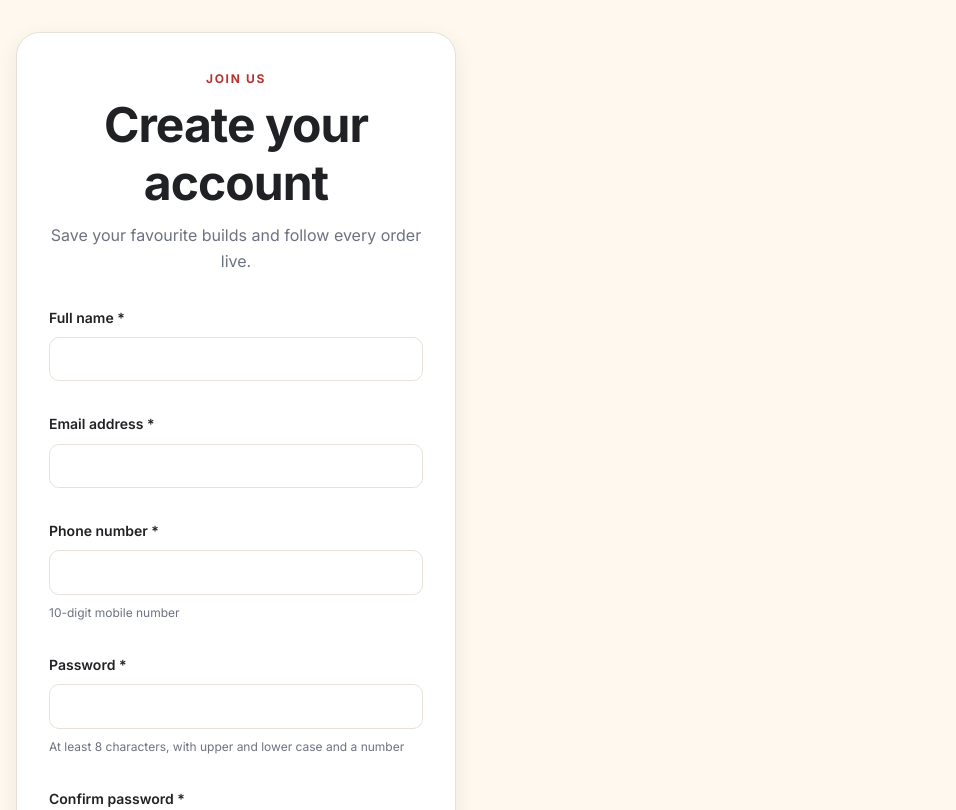
Test: Register form › warns instead of claiming success when email delivery fails
In the field labelled "Full name *": (236, 359) x1=49 y1=337 x2=423 y2=381, type "Asha Rao"
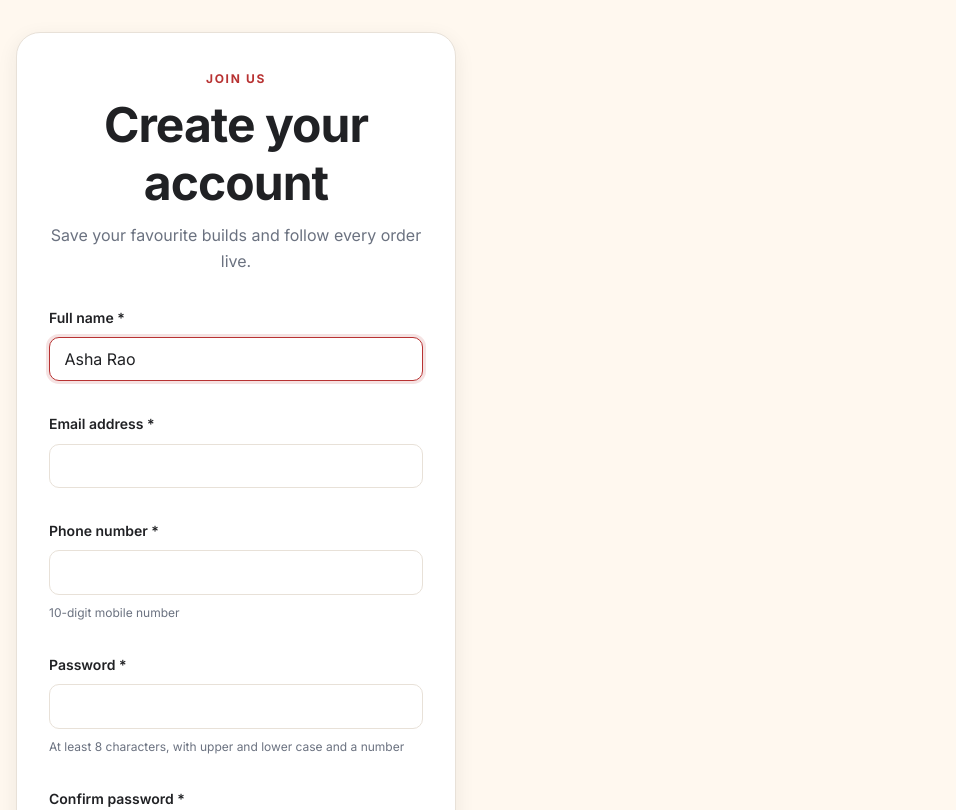
In the field labelled "Email address *": (236, 466) x1=49 y1=444 x2=423 y2=488, type "asha@example.com"
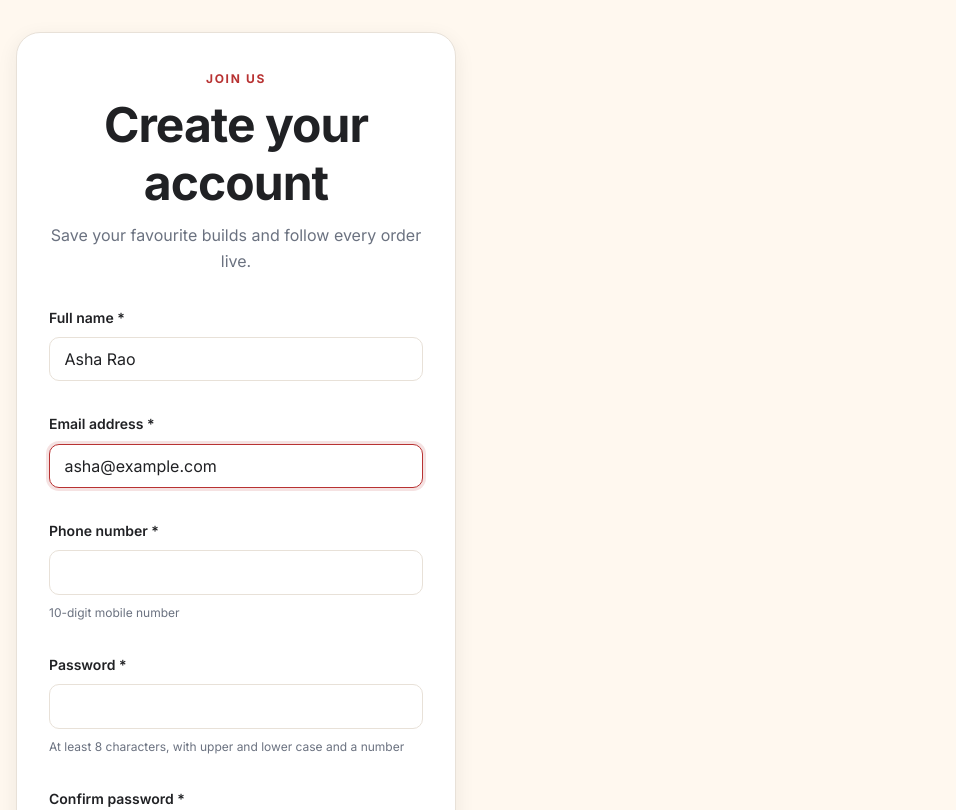
In the field labelled "Phone number *": (236, 573) x1=49 y1=550 x2=423 y2=595, type "9876543210"
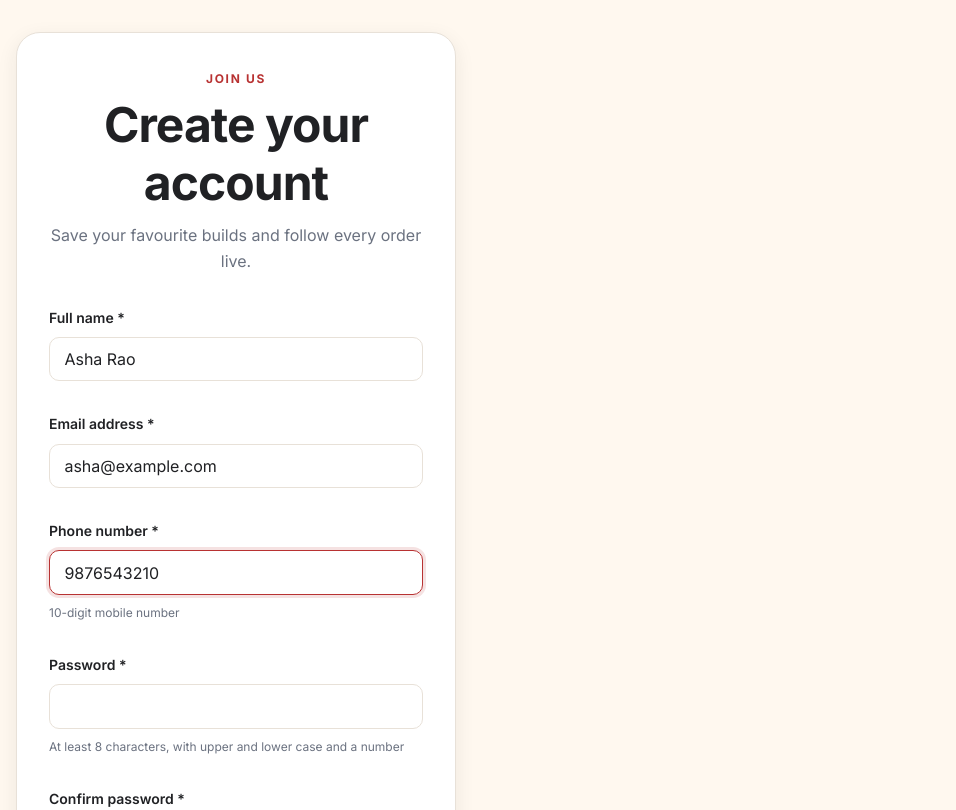
In the password field labelled "Password *": (236, 707) x1=49 y1=684 x2=423 y2=729, type "Str0ngPass1"
(page scrolled)
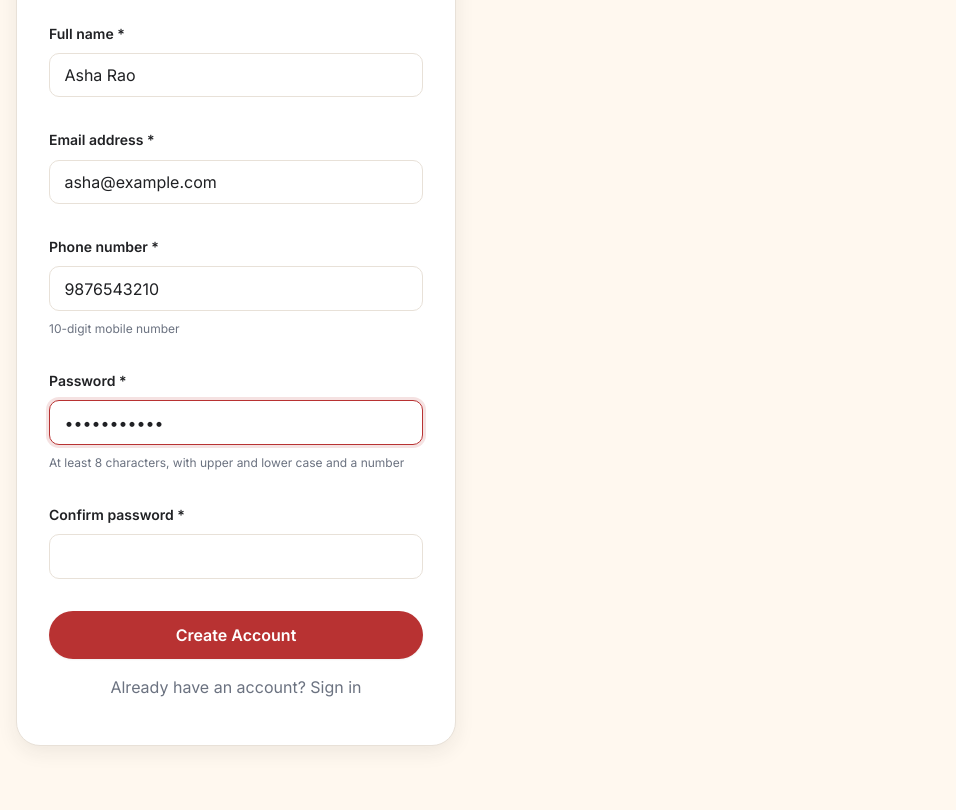
In the password field labelled "Confirm password *": (236, 557) x1=49 y1=534 x2=423 y2=579, type "Str0ngPass1"
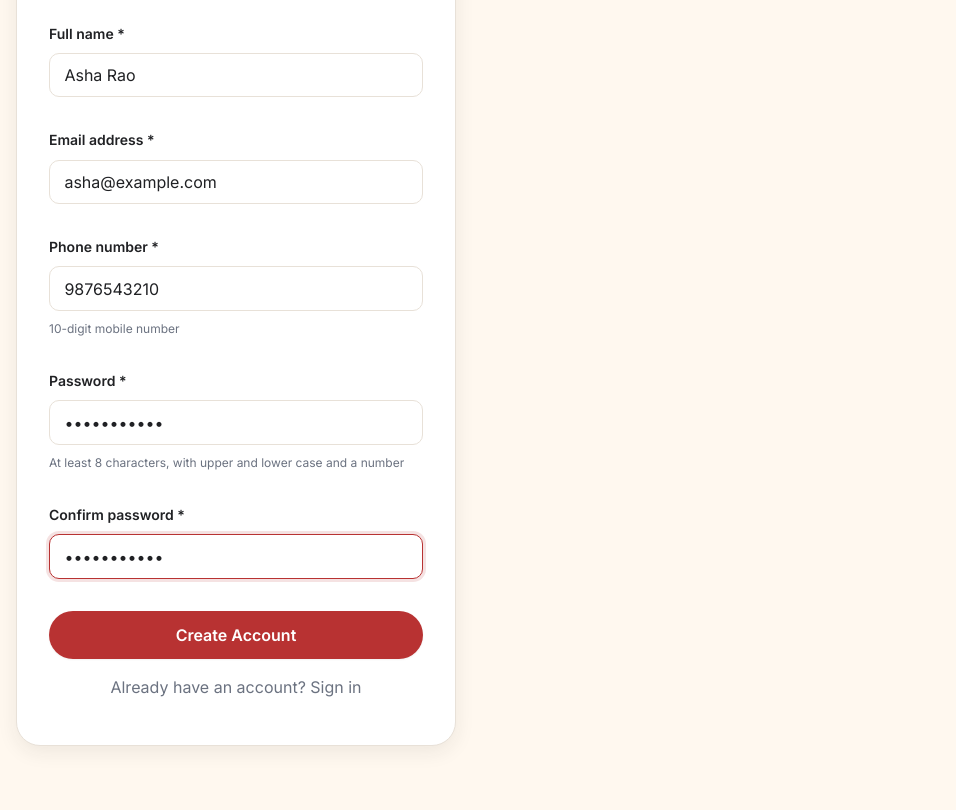
Click the button "Create Account": (236, 635) x1=49 y1=611 x2=423 y2=659
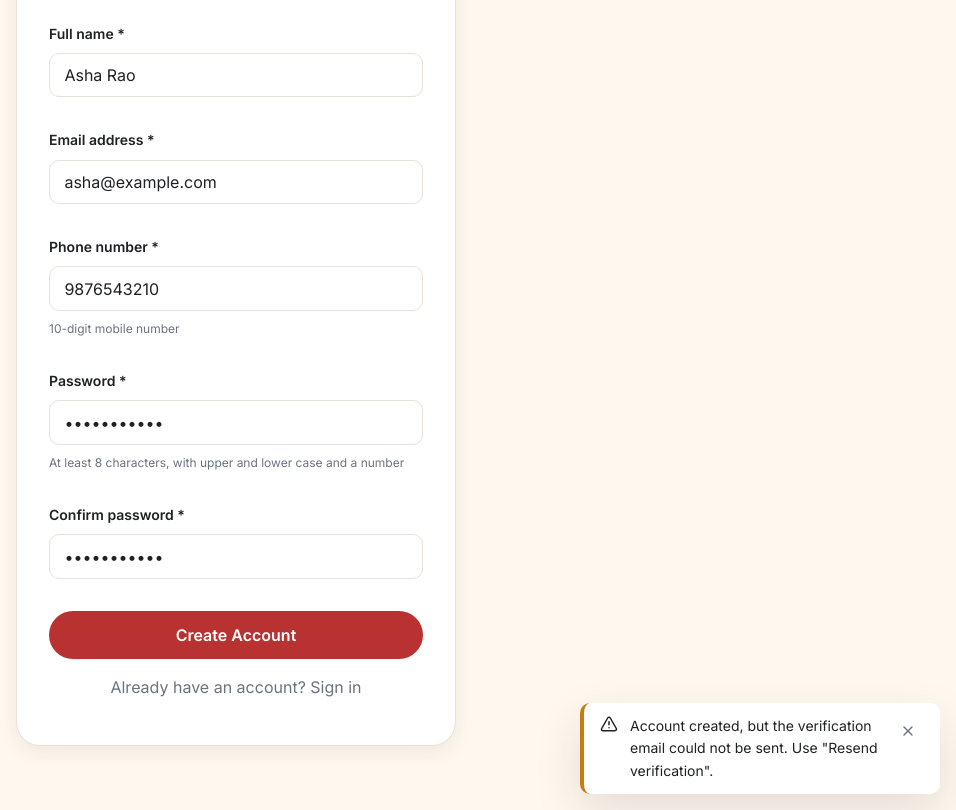
Check: the text "verification email could not be sent" is shown, box x1=630 y1=717 x2=878 y2=779
